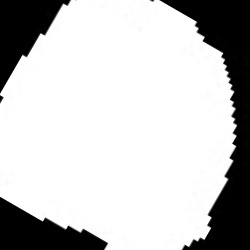spot: (1, 2, 235, 249)
